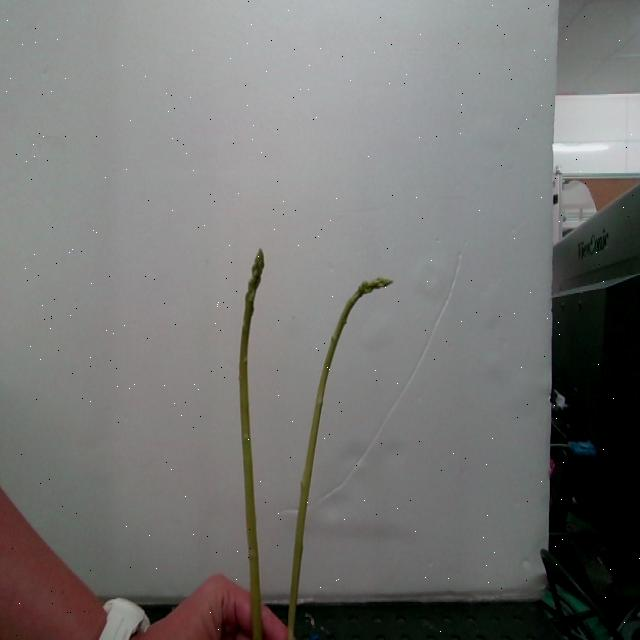aspargus: (289, 279, 394, 640), (239, 252, 267, 640)
